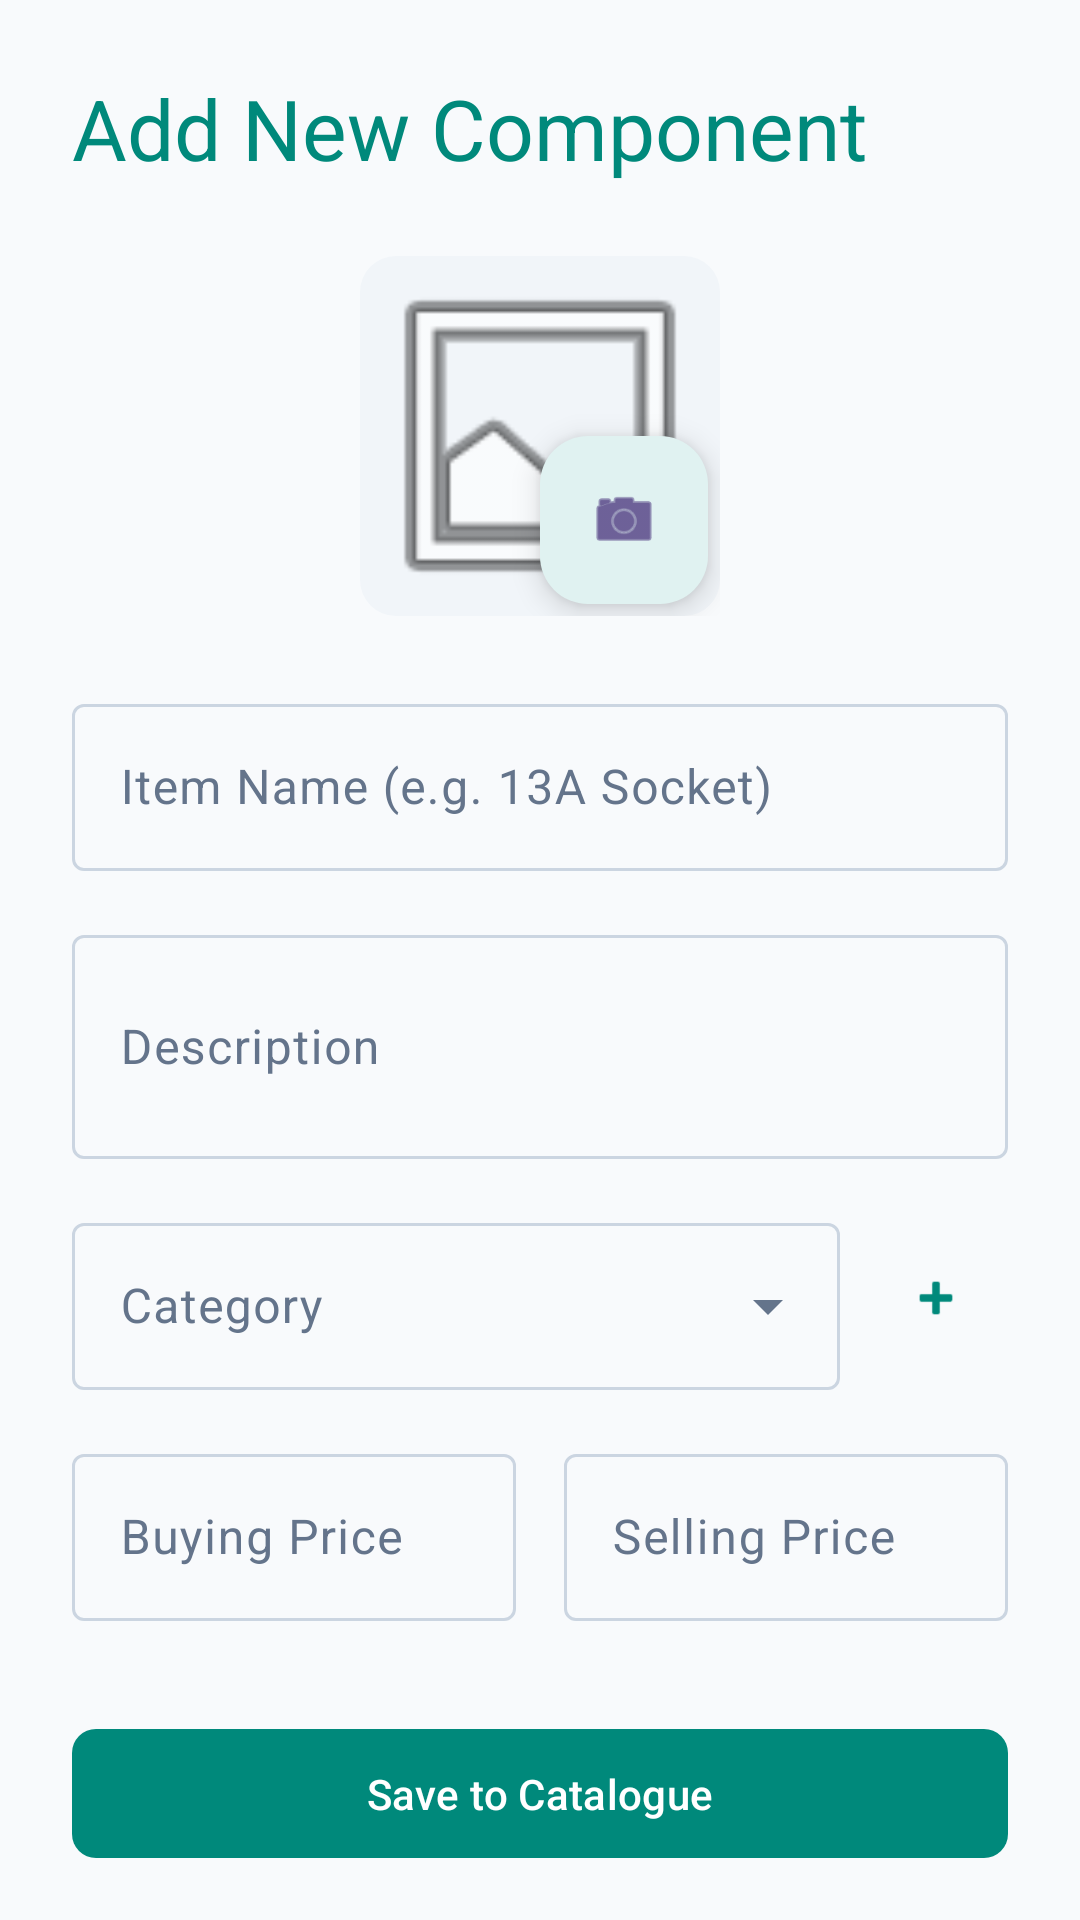

Icons on this 1080*1920 Android screen, each with the point to tap as [x,y]:
add: [936,1298]
